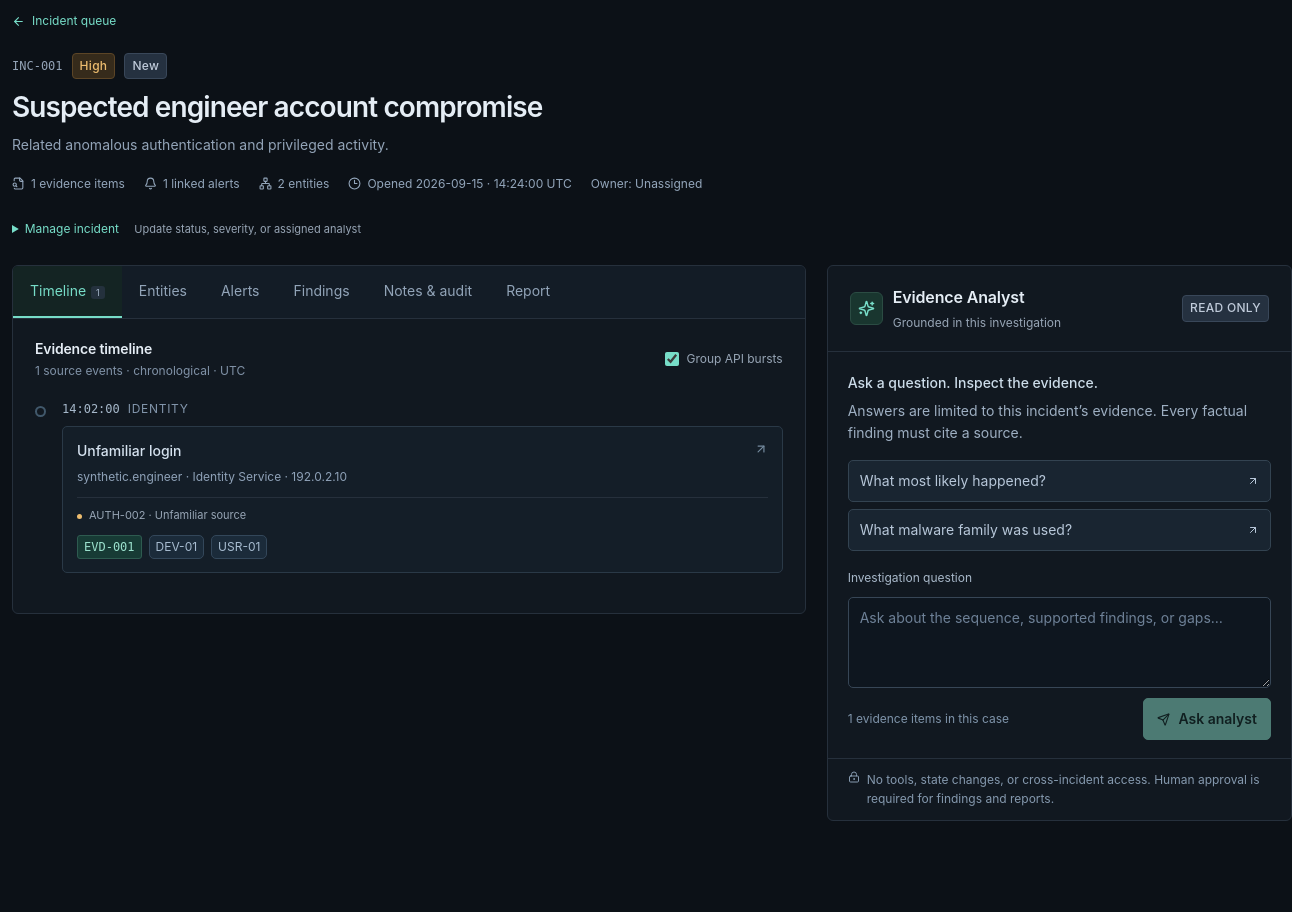
investigation evidence workflow › keeps keyboard-selected tab panels named by valid stable IDs
Click the tab "Timeline1".
click(67, 292)  # box x1=13 y1=266 x2=122 y2=318
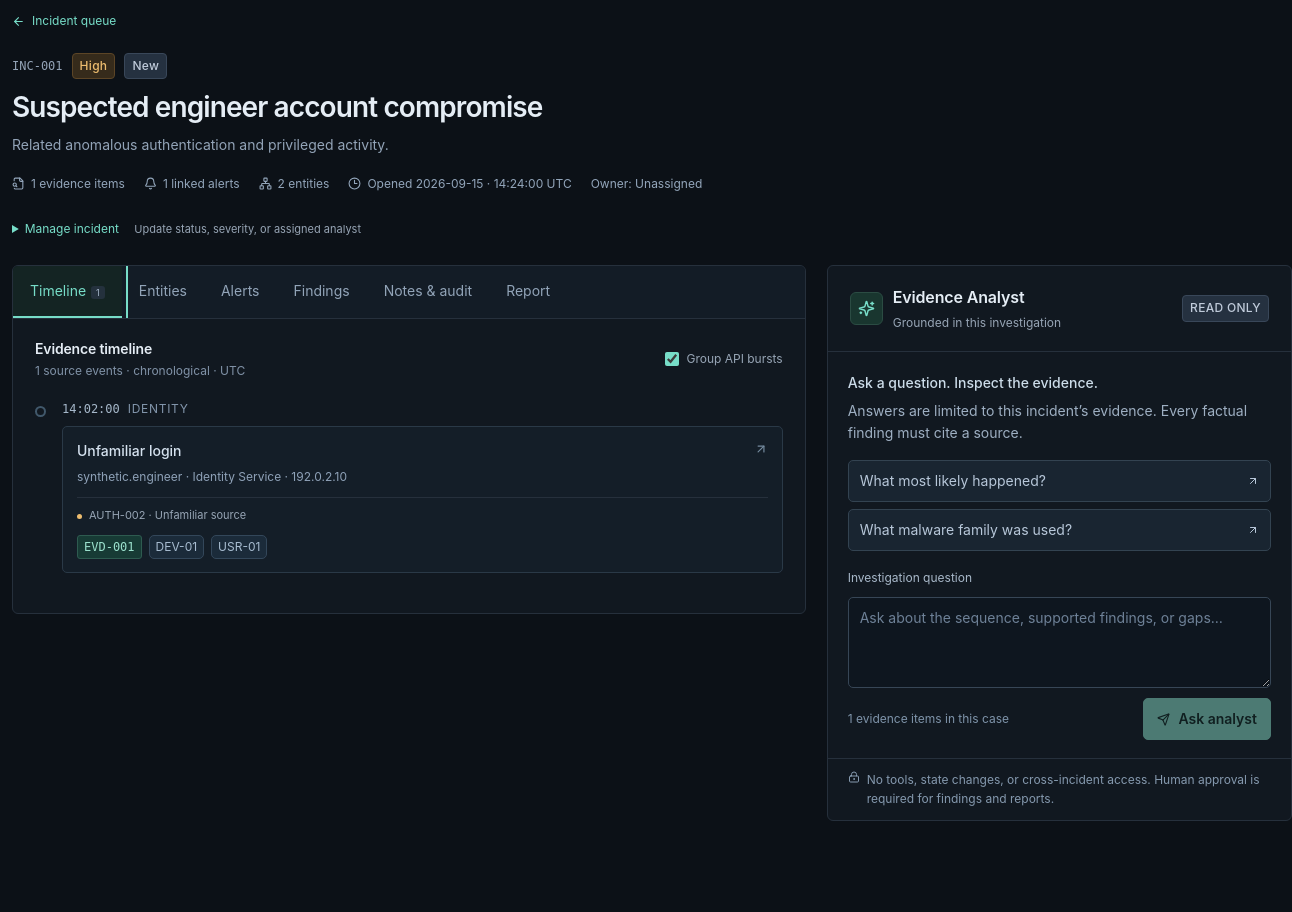
Press Arrowright Arrowright Arrowright {Arr
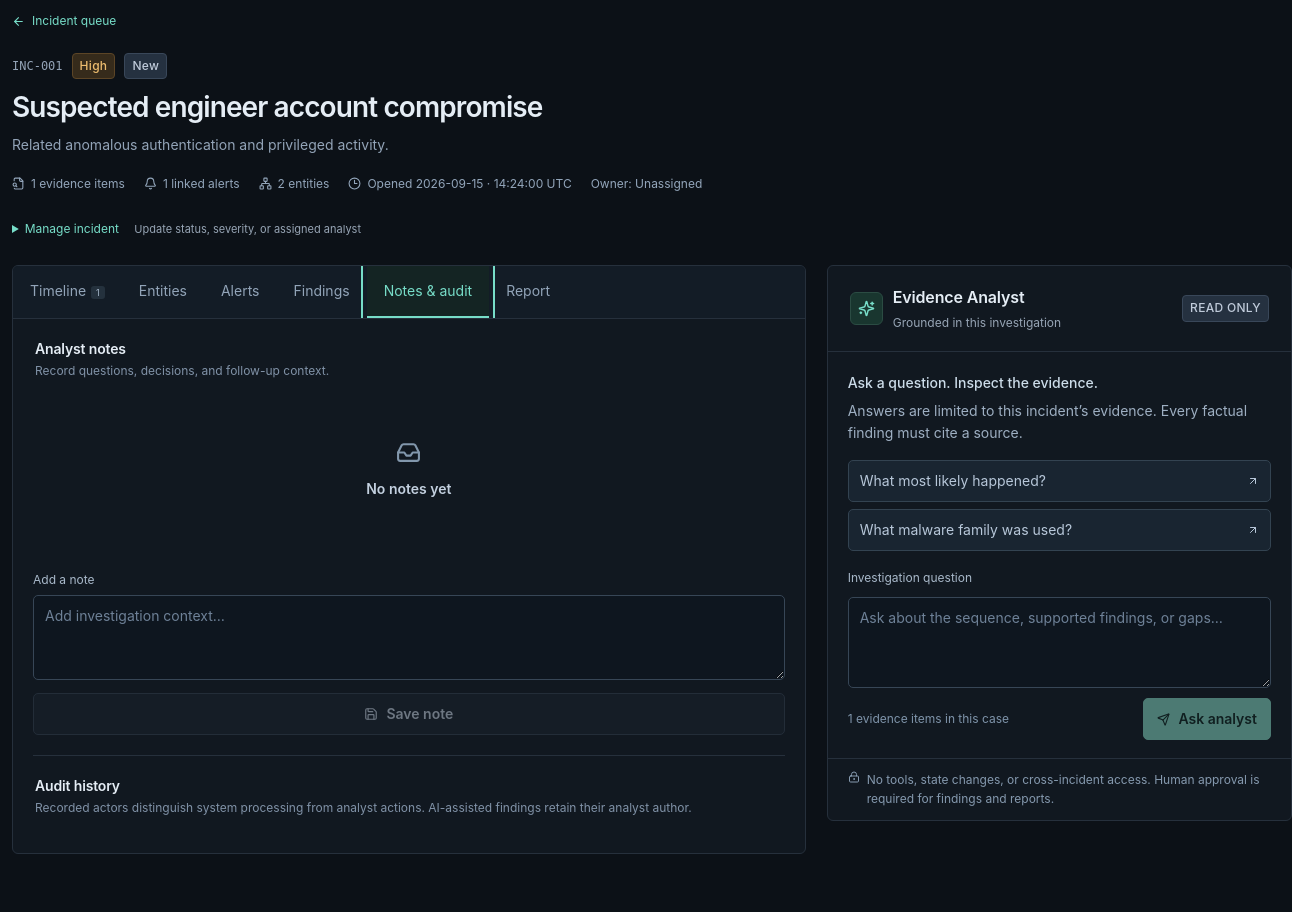
Result: the tab "Notes & audit" is selected at x1=367 y1=266 x2=489 y2=318
Result: the panel named "Notes & audit" has attribute aria-labelledby="tab-notes-audit" at x1=13 y1=318 x2=805 y2=853
Press Home
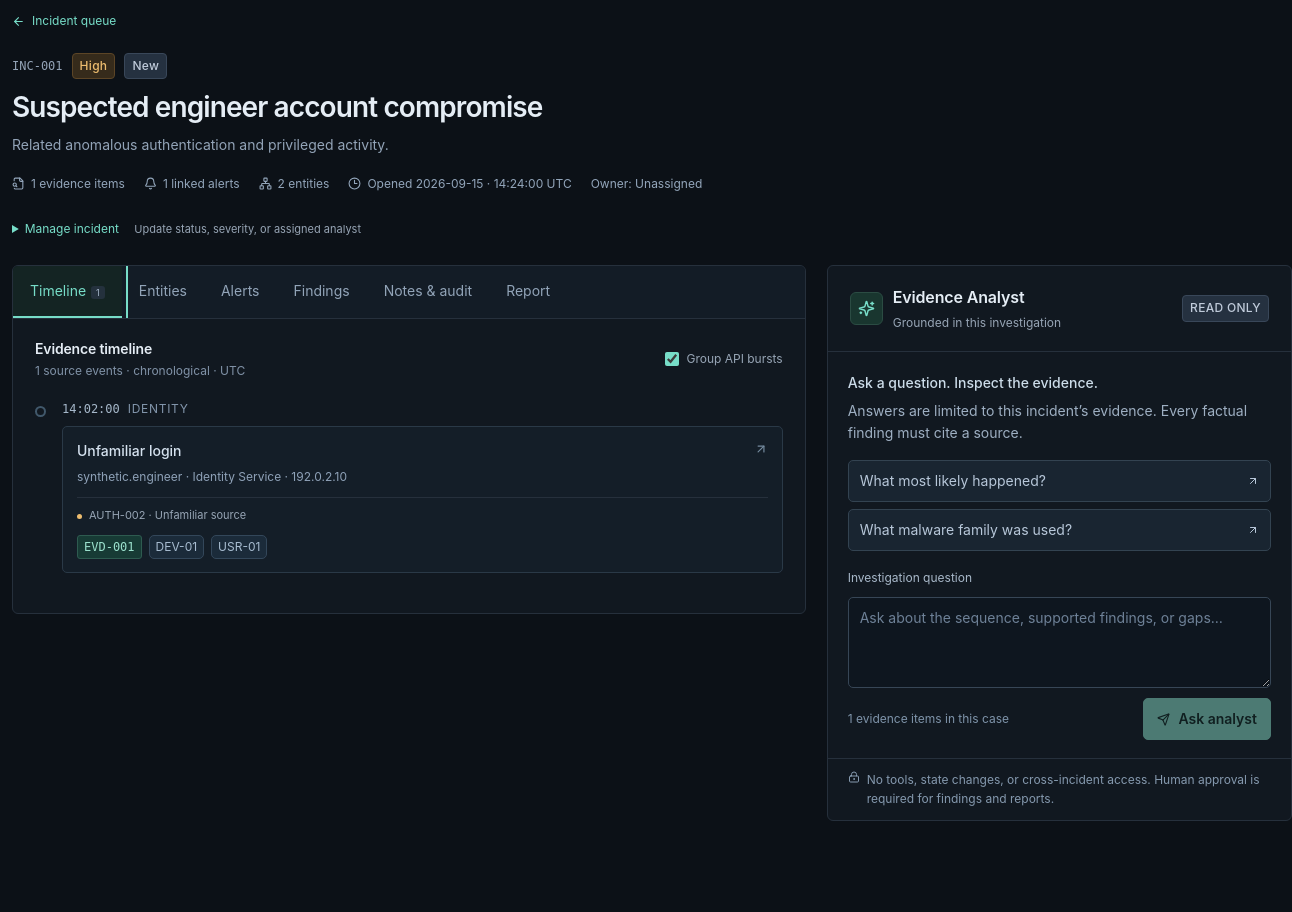
Result: the panel "timeline" is shown at x1=13 y1=318 x2=805 y2=613
